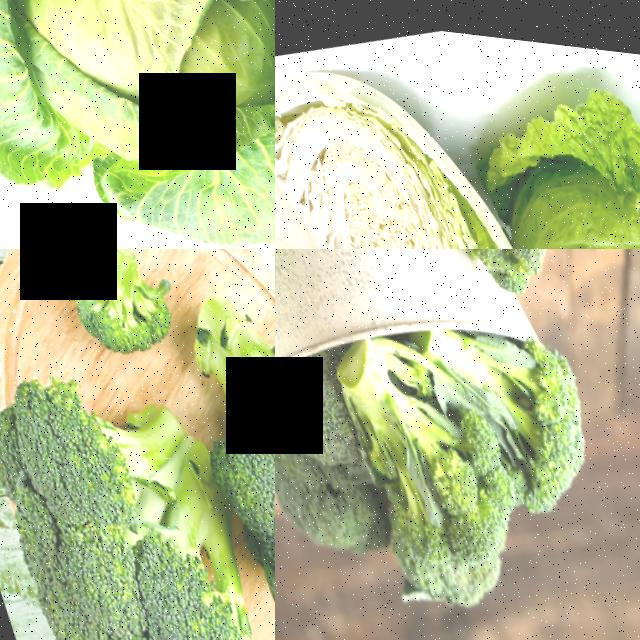broccoli: (0, 343, 275, 640), (322, 307, 501, 585), (163, 249, 275, 618), (433, 315, 603, 530), (336, 249, 592, 309), (38, 249, 169, 359)
cabbage: (0, 0, 275, 249), (275, 12, 556, 249), (477, 84, 640, 249)
